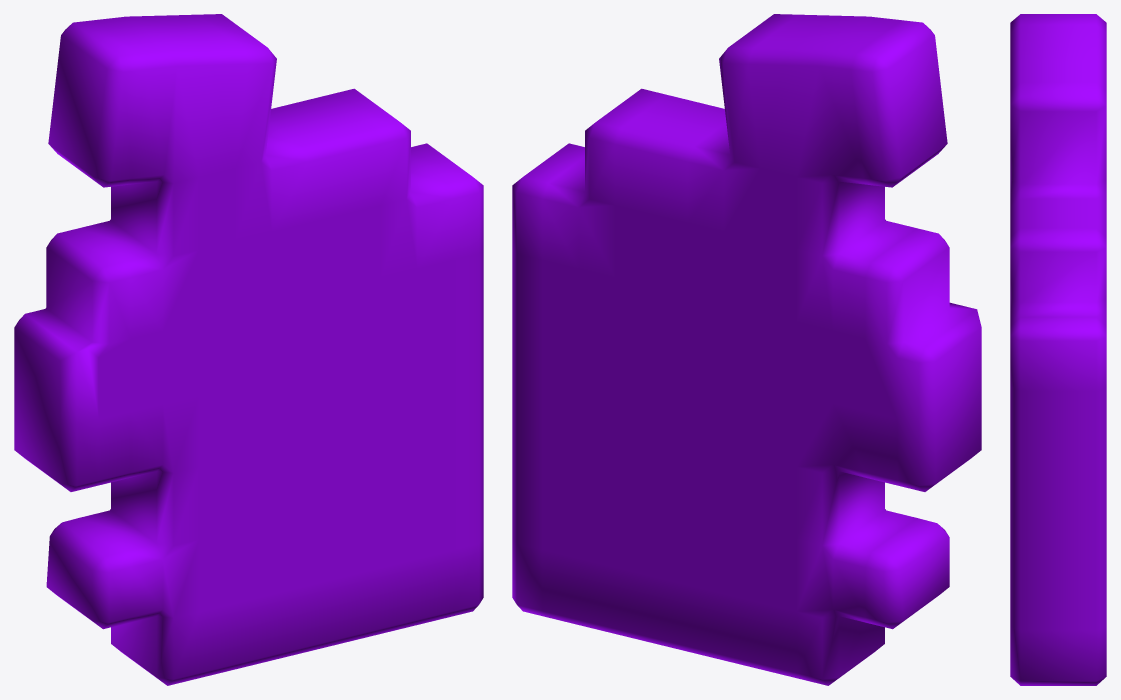
Rendered from OpticalPuzzle_2.FBX.
3 views of the same model, side by side, from view 1: azimuth 30°, elevation 25°; view 2: azimuth 150°, elevation 25°; view 3: azimuth 270°, elevation 25° (orthographic). The views are drawn at different scales.
Visible parts, largest first — view 1: OpticalPuzzle_2; view 2: OpticalPuzzle_2; view 3: OpticalPuzzle_2.
Part boxes in pixels (x1,y1,x2,y2): OpticalPuzzle_2: (14,14,483,685); OpticalPuzzle_2: (512,14,981,685); OpticalPuzzle_2: (1010,14,1106,685).
Size of the model in its own units: 526 by 762 by 125.
